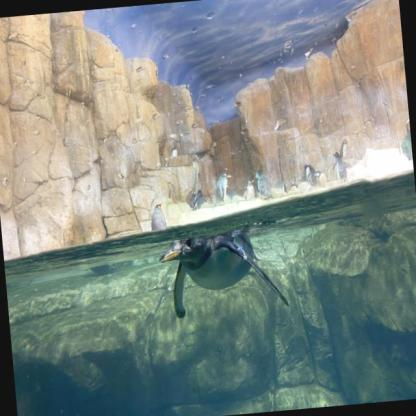penguin: (156, 225, 289, 319), (210, 170, 235, 209), (253, 167, 273, 204), (148, 201, 170, 231), (330, 150, 349, 180), (191, 188, 208, 214), (241, 176, 256, 204), (187, 188, 198, 212), (338, 138, 350, 160), (306, 165, 317, 188), (302, 162, 313, 184), (288, 180, 299, 193), (280, 179, 287, 195)
